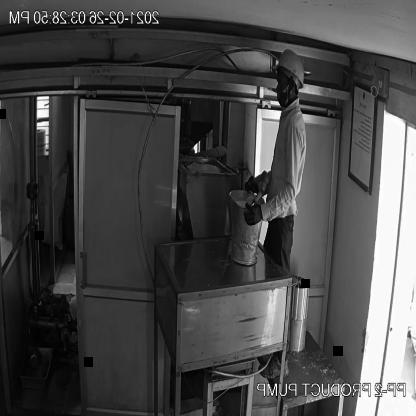helmet: (268, 50, 307, 91)
